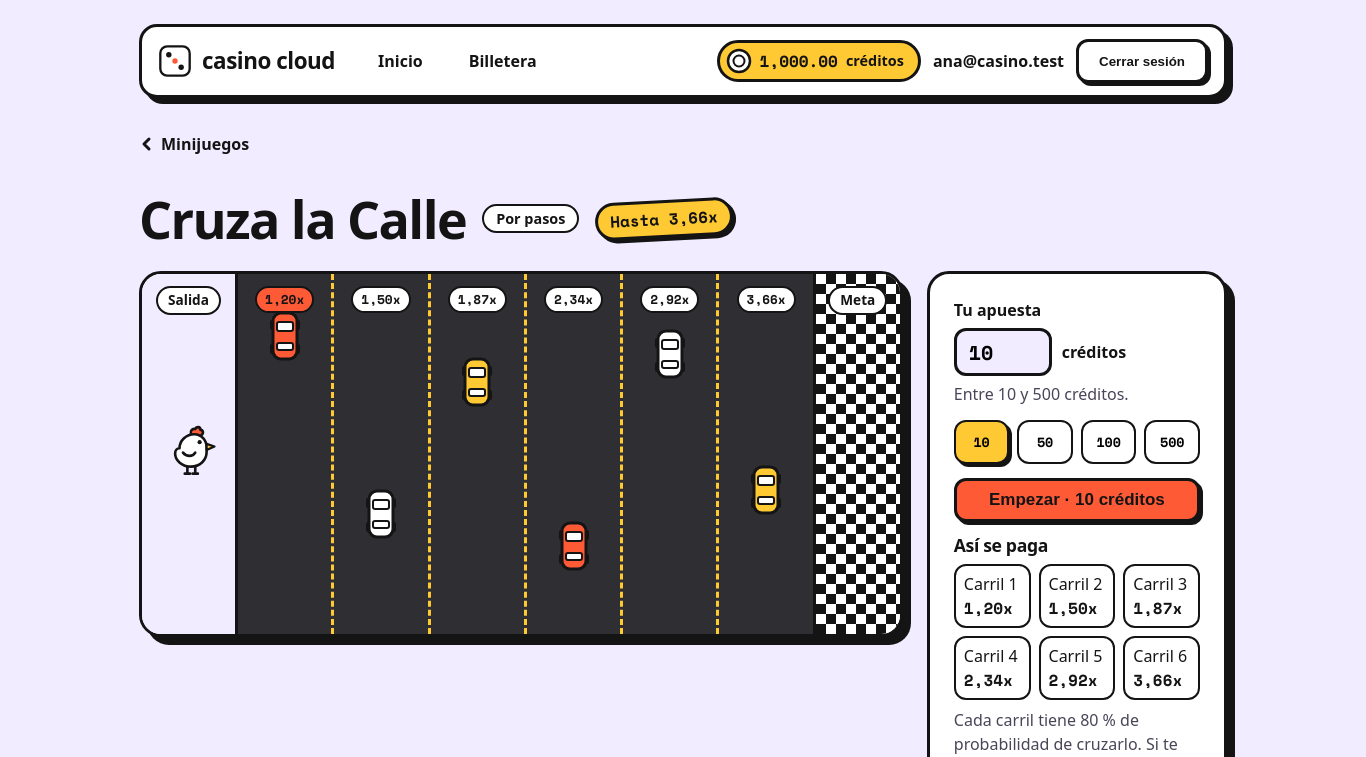
Test: ChickenRoadPage layout and Apuesta › keeps the amount within 10 to 500 credits in steps of 10
Replace the text in the number field labelled "Tu apuesta" with "5" at (1003, 352), box [954, 328, 1052, 376]
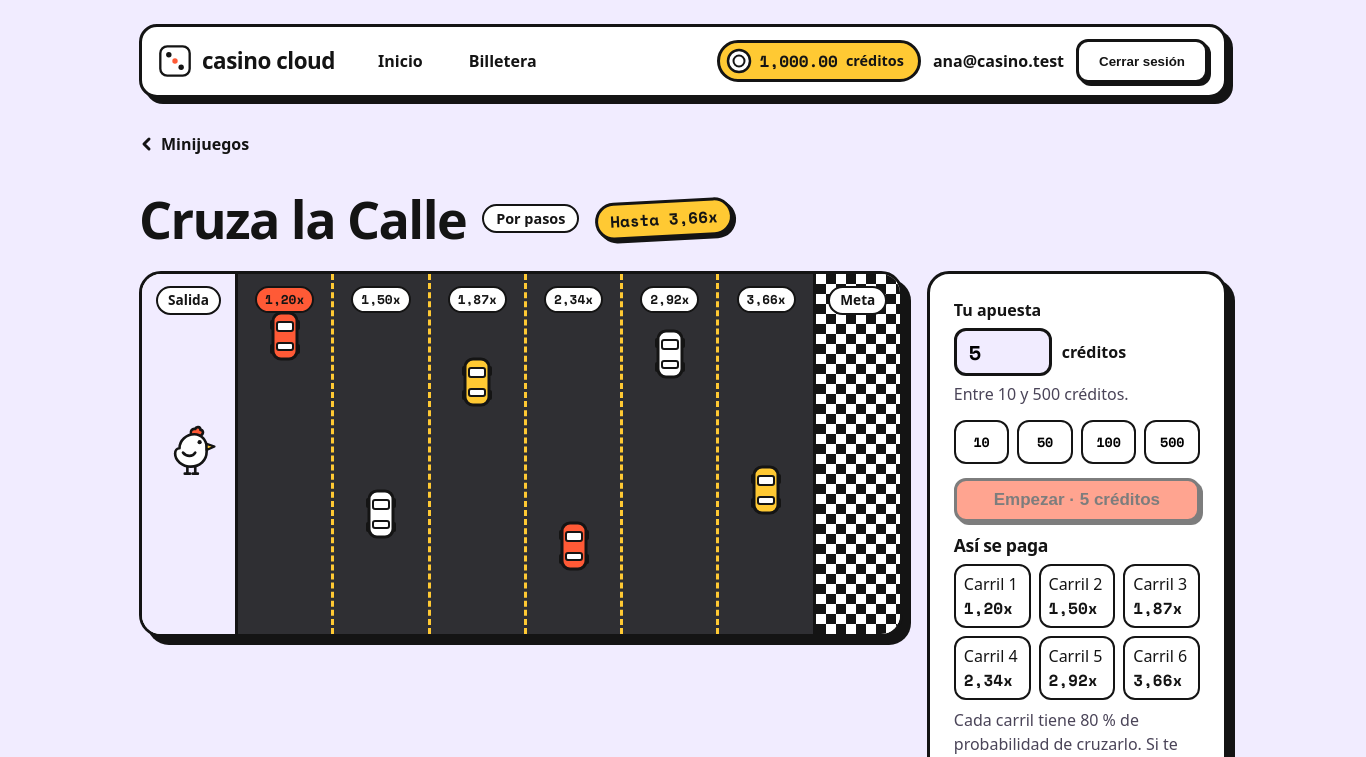
Expected: the button "Empezar · 5 créditos" is disabled, [954, 478, 1200, 522]
Replace the text in the number field labelled "Tu apuesta" with "510" at (1003, 352), box [954, 328, 1052, 376]
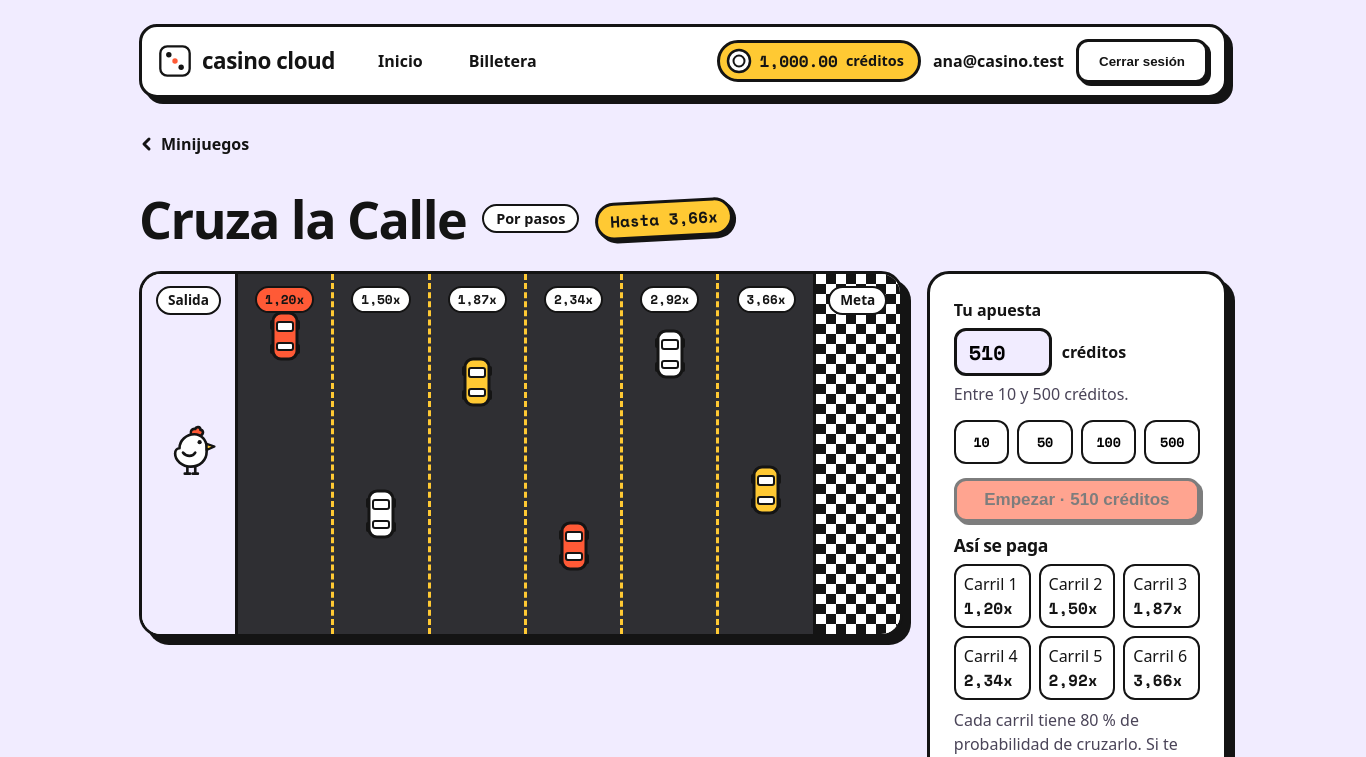
Expected: the button "Empezar · 510 créditos" is disabled, [954, 478, 1200, 522]
Replace the text in the number field labelled "Tu apuesta" with "15" at (1003, 352), box [954, 328, 1052, 376]
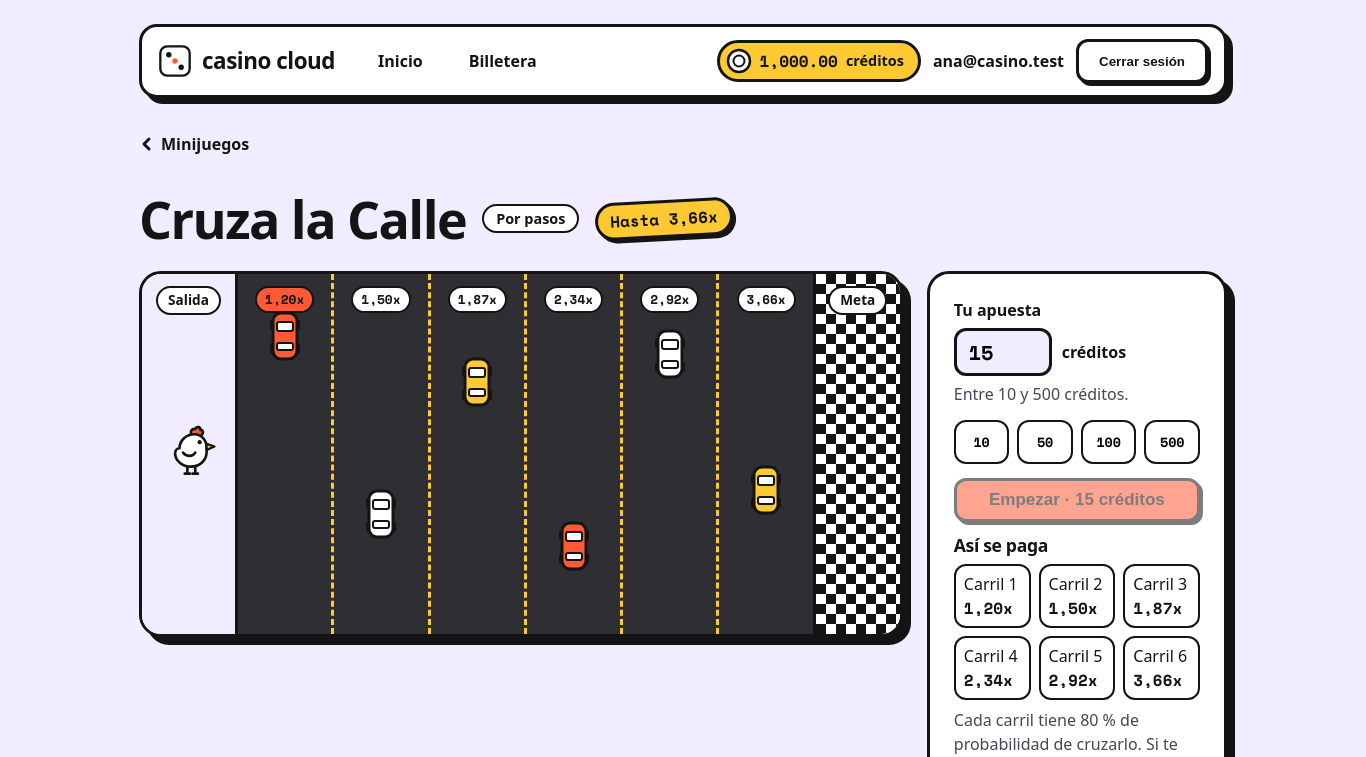
Expected: the button "Empezar · 15 créditos" is disabled, [954, 478, 1200, 522]
Clear the number field labelled "Tu apuesta" at (1003, 352), box [954, 328, 1052, 376]
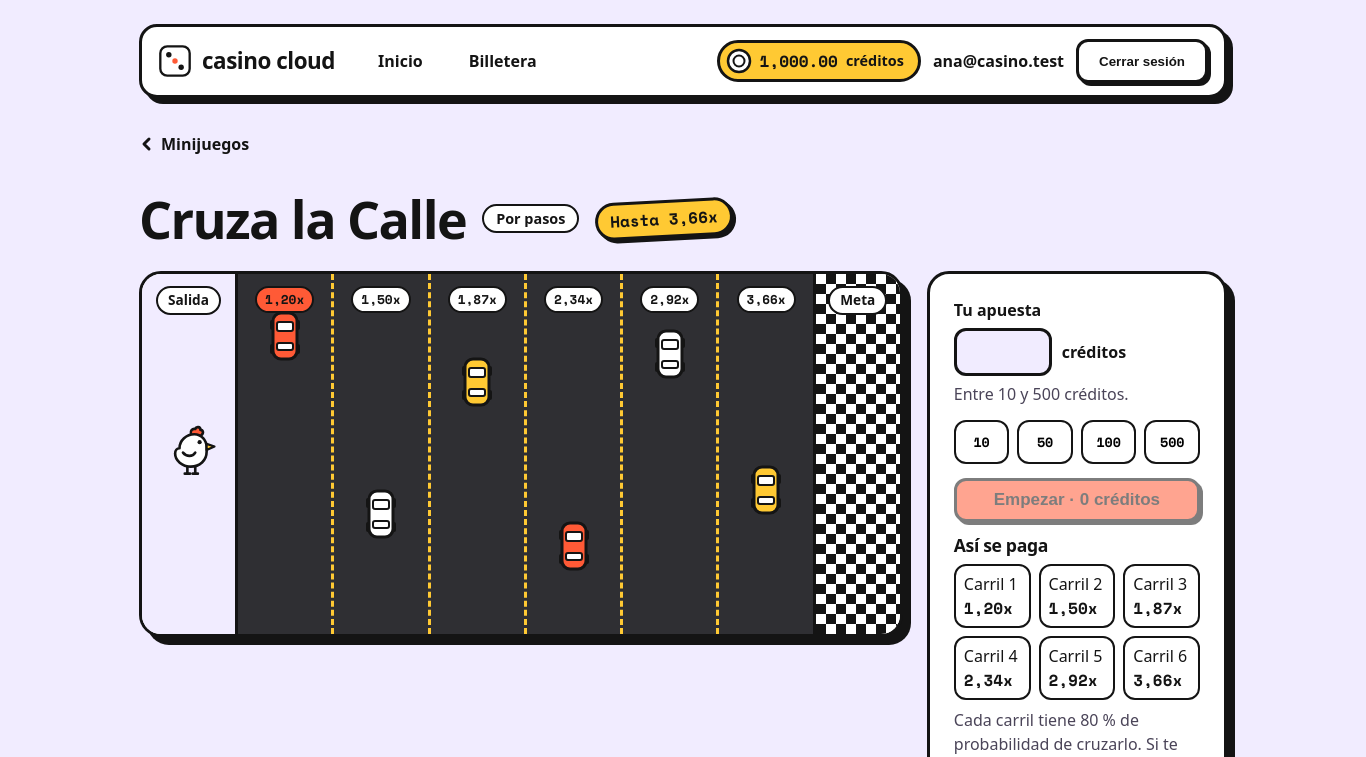
Expected: the button "Empezar · 0 créditos" is disabled, [954, 478, 1200, 522]
Type "250" into the number field labelled "Tu apuesta" at (1003, 352), box [954, 328, 1052, 376]
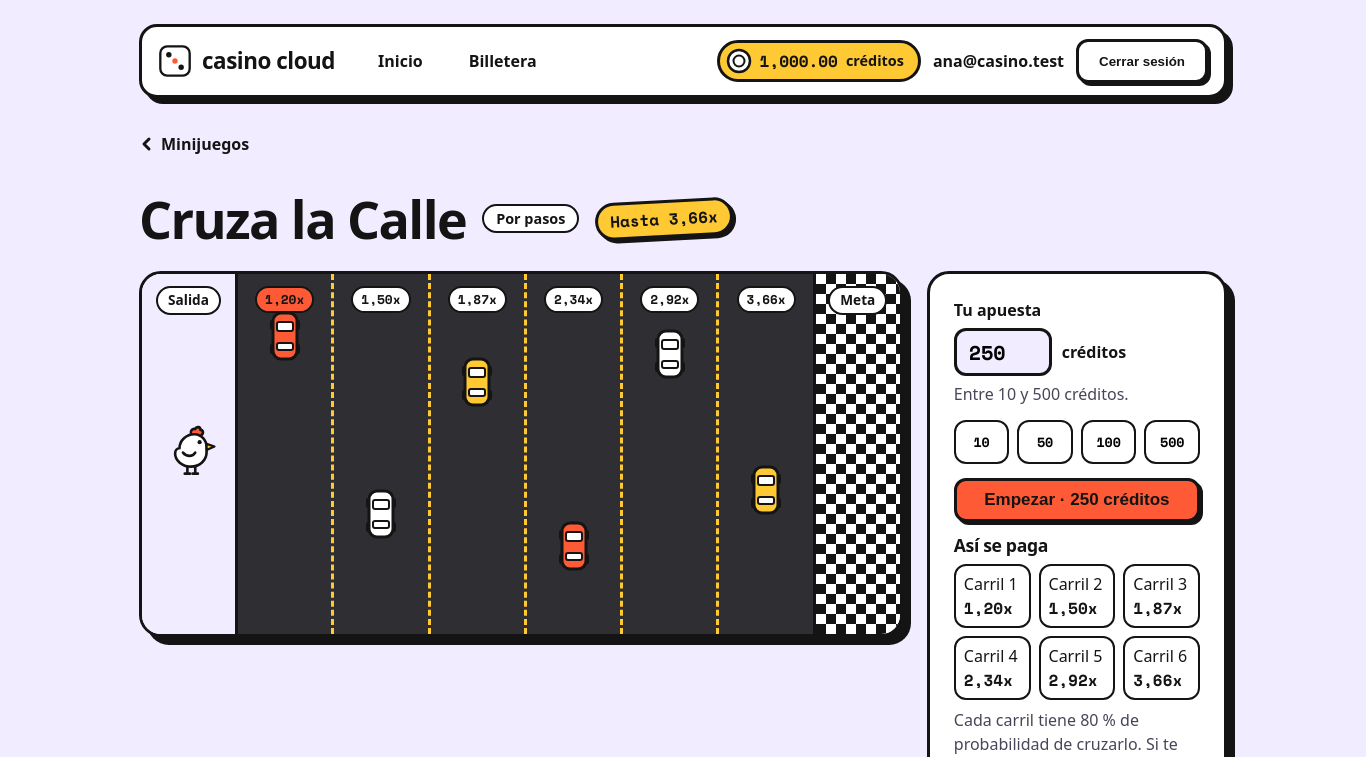
Expected: the button "Empezar · 250 créditos" is enabled, [954, 478, 1200, 522]
Click the button "500" at (1172, 442), box [1144, 420, 1200, 464]
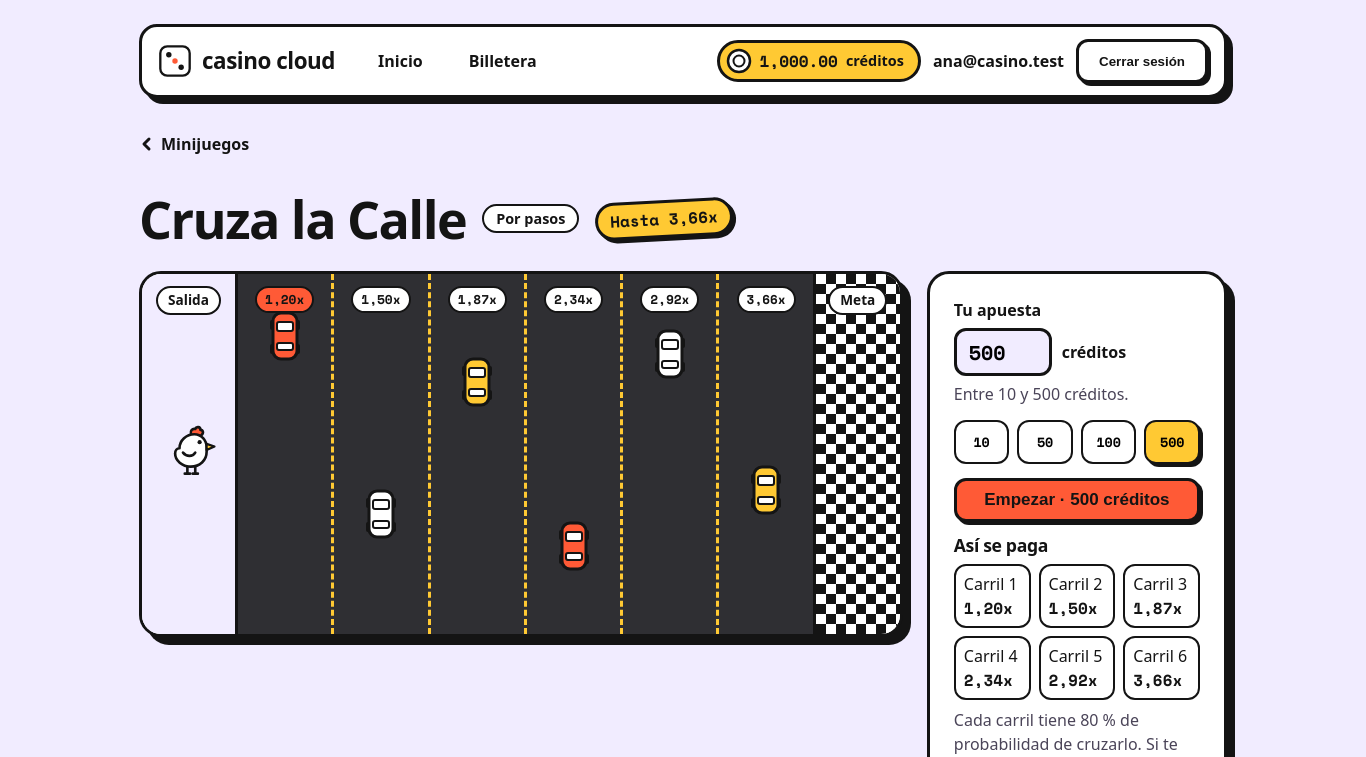
Expected: the number field labelled "Tu apuesta" holds "500", [954, 328, 1052, 376]
Expected: the button "Empezar · 500 créditos" is shown, [954, 478, 1200, 522]
